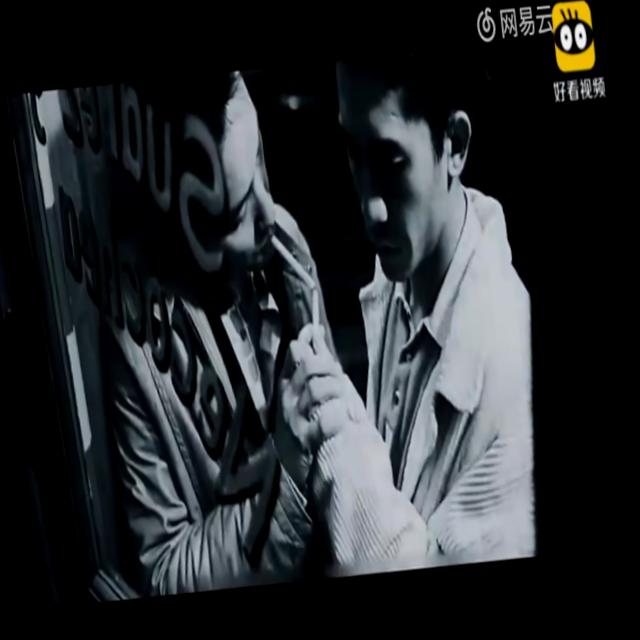cigarette: (268, 229, 315, 295)
